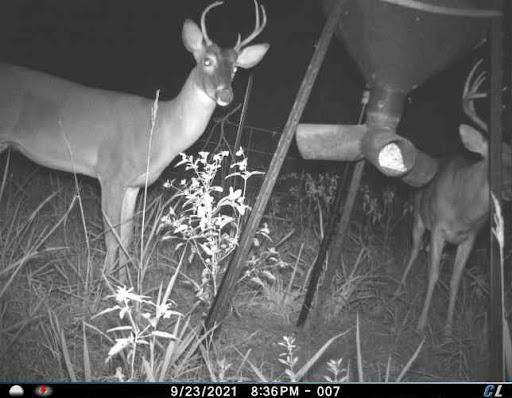Deer: (0, 0, 278, 305), (398, 52, 512, 350)
